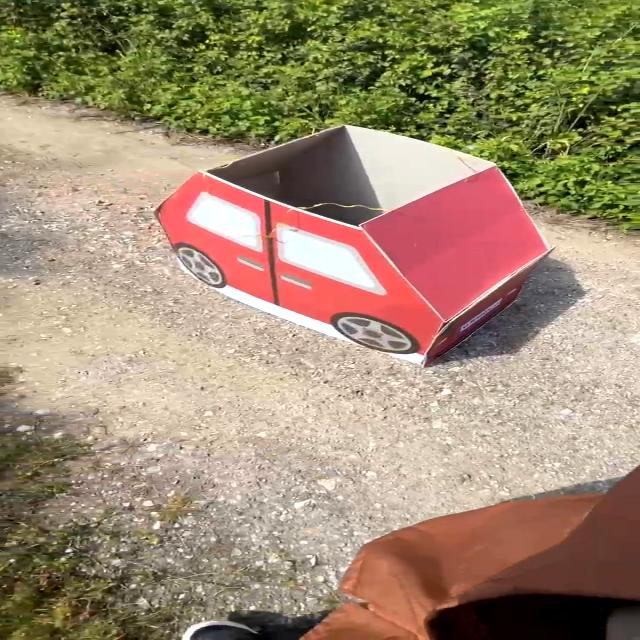red_car: (131, 111, 567, 369)
